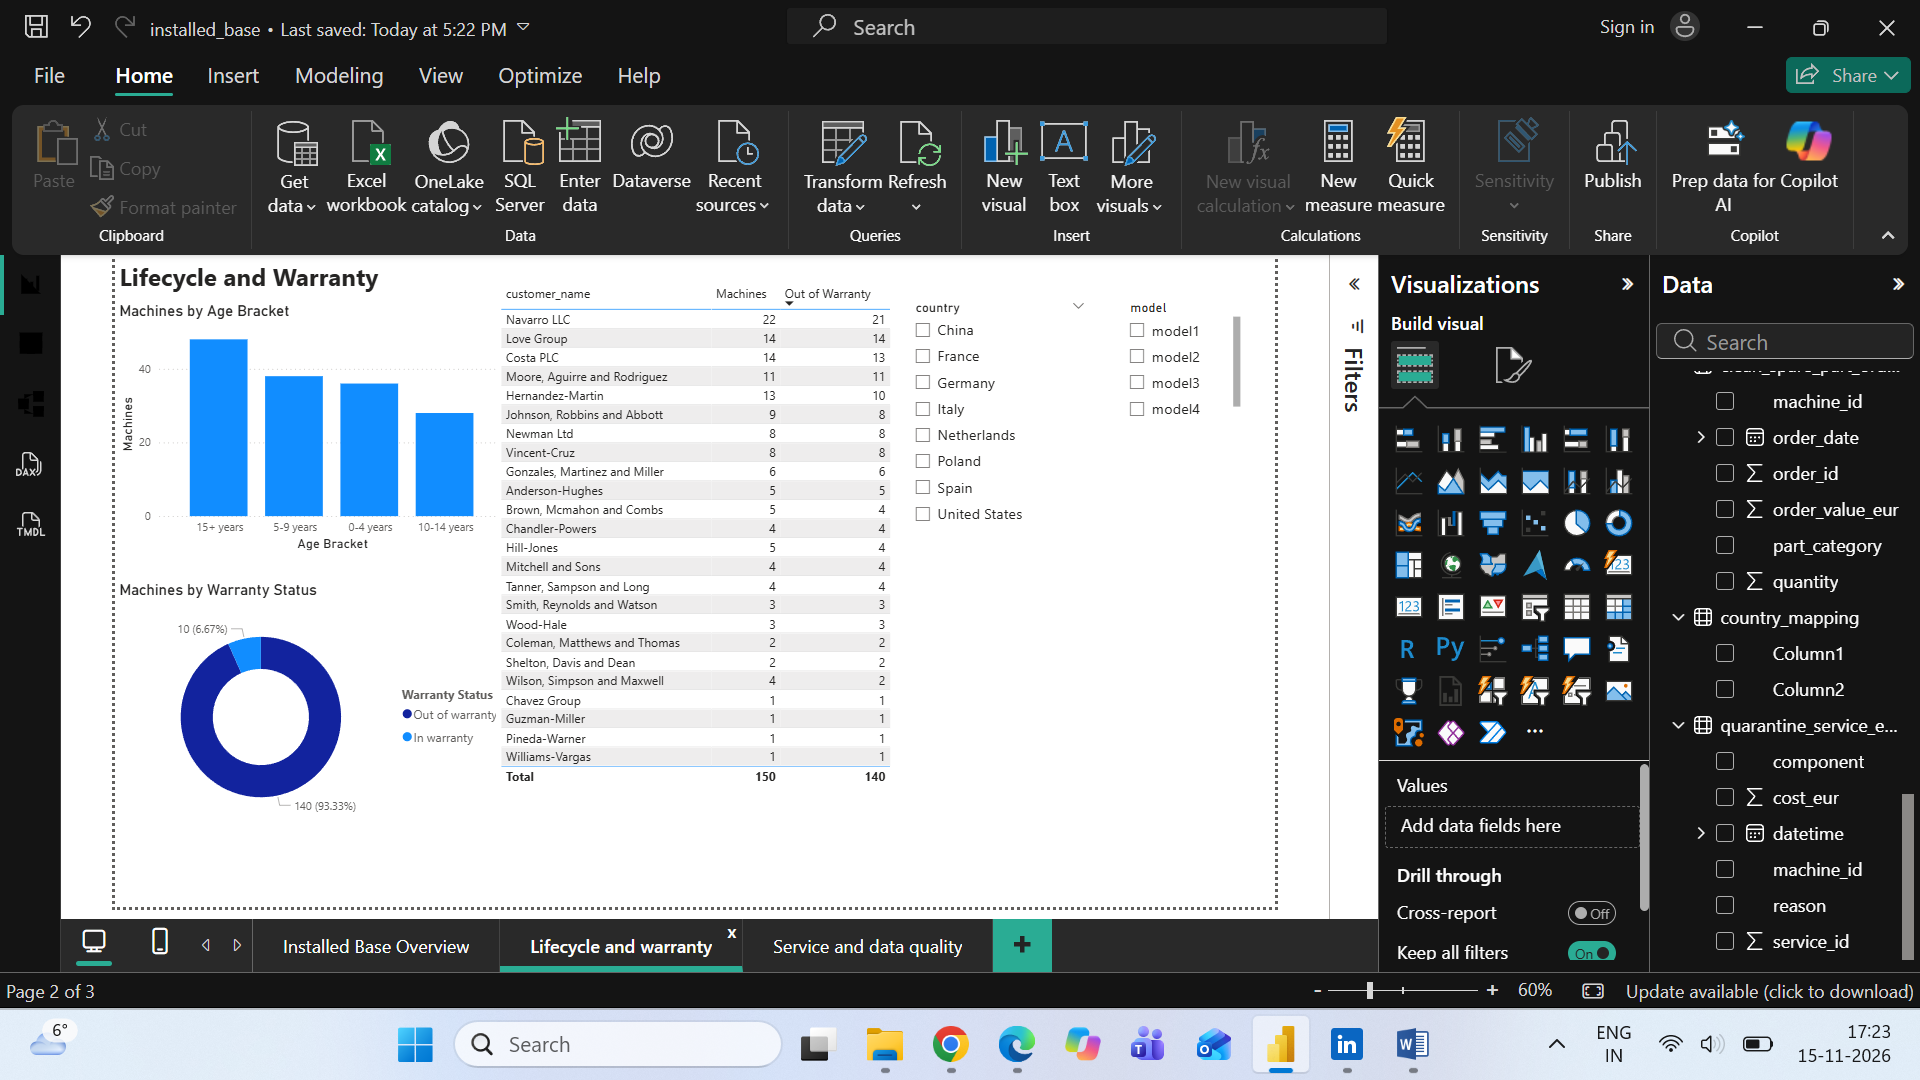

The dashboard page shown, as its layout file describes it:
{"tool":"powerbi","page":{"name":"Lifecycle and warranty","canvas":[1280,720],"ordinal":1},"visuals":[{"type":"clusteredColumnChart","fields":{"Category":["clean_machines.Age Bracket"],"Y":["clean_machines.Machines"]},"box":[0,51,436.5,279.7],"z":0},{"type":"donutChart","fields":{"Category":["clean_machines.Warranty Status"],"Y":["clean_machines.Machines"]},"box":[0,359.1,436.5,281.6],"z":1000},{"type":"tableEx","fields":{"Values":["clean_customers.customer_name","clean_machines.Machines","clean_machines.Out of Warranty"]},"box":[421.4,26.5,449.8,665.2],"z":2000},{"type":"slicer","fields":{"Values":["clean_customers.country"]},"box":[871.2,45.4,211.7,260.8],"z":3000},{"type":"slicer","fields":{"Values":["clean_machines.model"]},"box":[1107.4,45.4,139.8,139.8],"z":4000},{"type":"textbox","box":[0,0,306.1,51],"z":5000}]}

Visuals, with their boxes on the page's 1280x720 design canvas (x1, y1, x2, y2). These are canvas units, not pixel positions in the 1920x1080 screenshot, which may show the page scaled, cropped or inside an application window:
clusteredColumnChart - clean_machines.Age Bracket x clean_machines.Machines: {"left": 0, "top": 51, "right": 436, "bottom": 331}
donutChart - clean_machines.Warranty Status x clean_machines.Machines: {"left": 0, "top": 359, "right": 436, "bottom": 641}
tableEx - clean_customers.customer_name x clean_machines.Machines: {"left": 421, "top": 26, "right": 871, "bottom": 692}
slicer - clean_customers.country: {"left": 871, "top": 45, "right": 1083, "bottom": 306}
slicer - clean_machines.model: {"left": 1107, "top": 45, "right": 1247, "bottom": 185}
textbox: {"left": 0, "top": 0, "right": 306, "bottom": 51}
